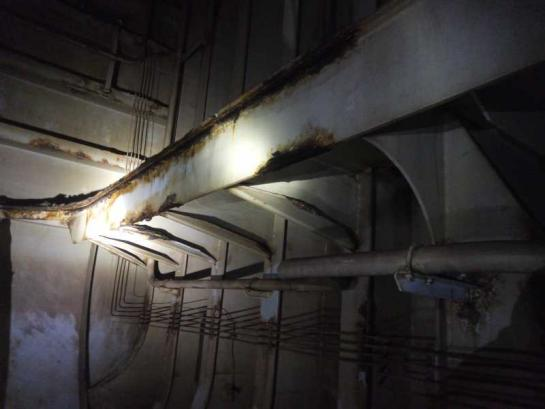corrosion: (247, 39, 357, 95), (262, 120, 337, 181), (2, 181, 71, 235), (118, 136, 220, 169), (21, 127, 101, 169), (118, 195, 178, 228), (200, 100, 249, 128)
